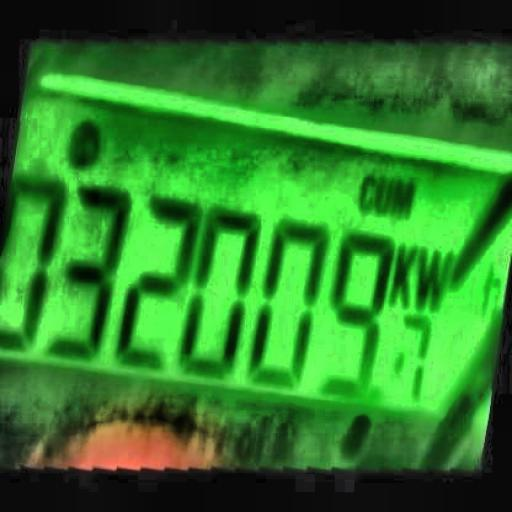SERIAL_REGION: (0, 168, 473, 424)
